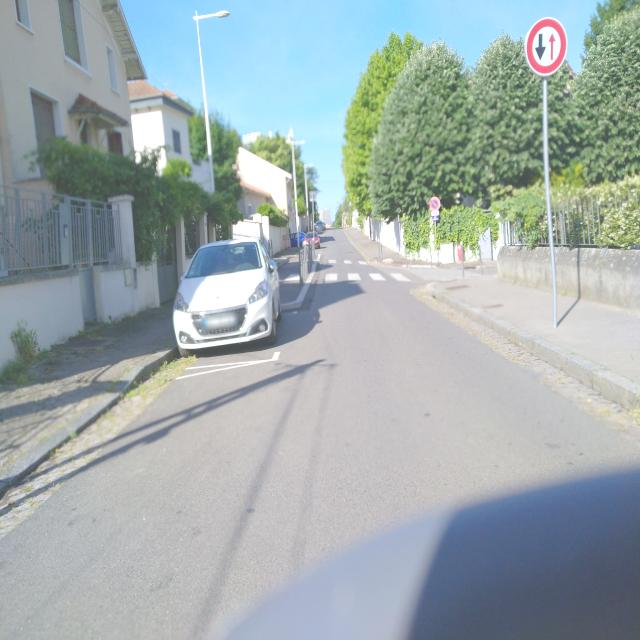car: (172, 236, 282, 356), (289, 231, 300, 248), (315, 220, 326, 235), (304, 232, 314, 248), (313, 232, 321, 250)
